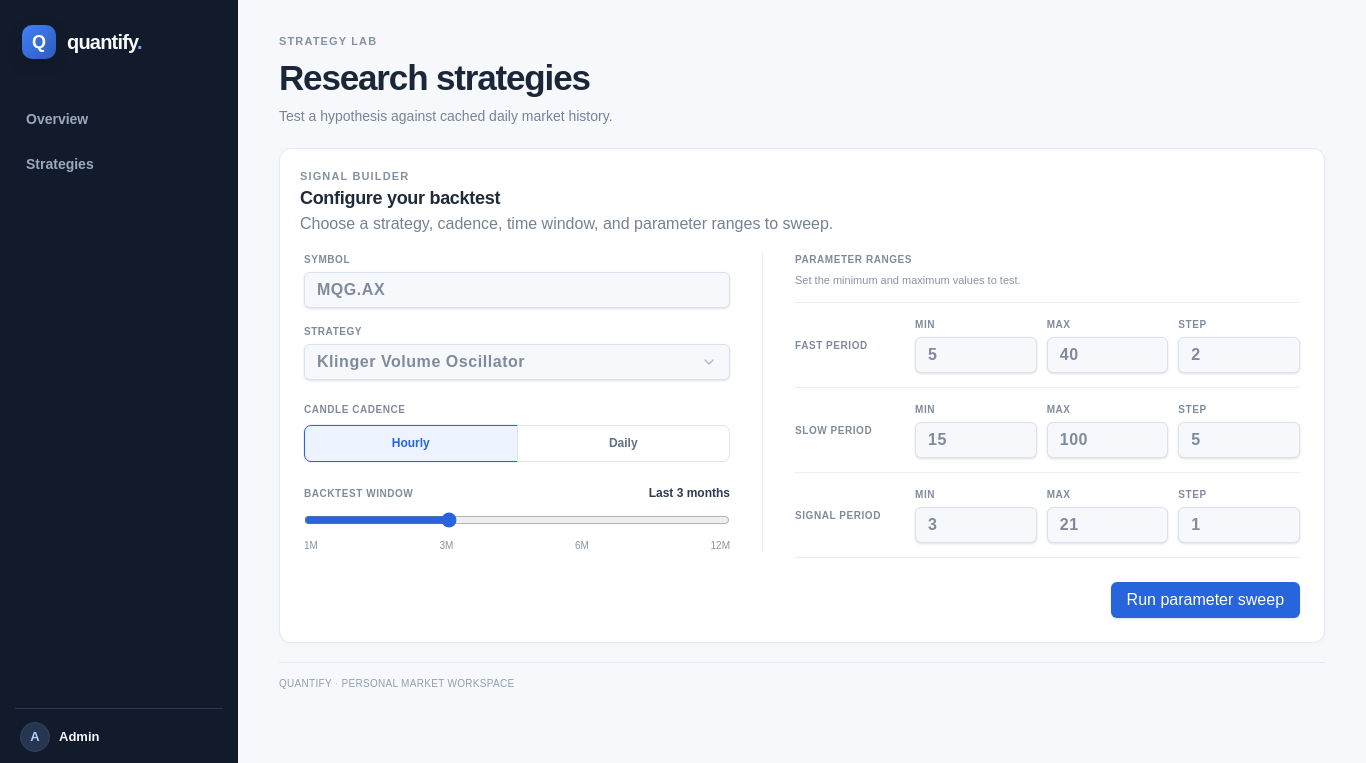
Scenario: ResearchPage › runs a selected strategy sweep and shows the results workspace
Click the button "Run parameter sweep": coordinates (1205, 600) [1111,582,1300,618]
(page scrolled)
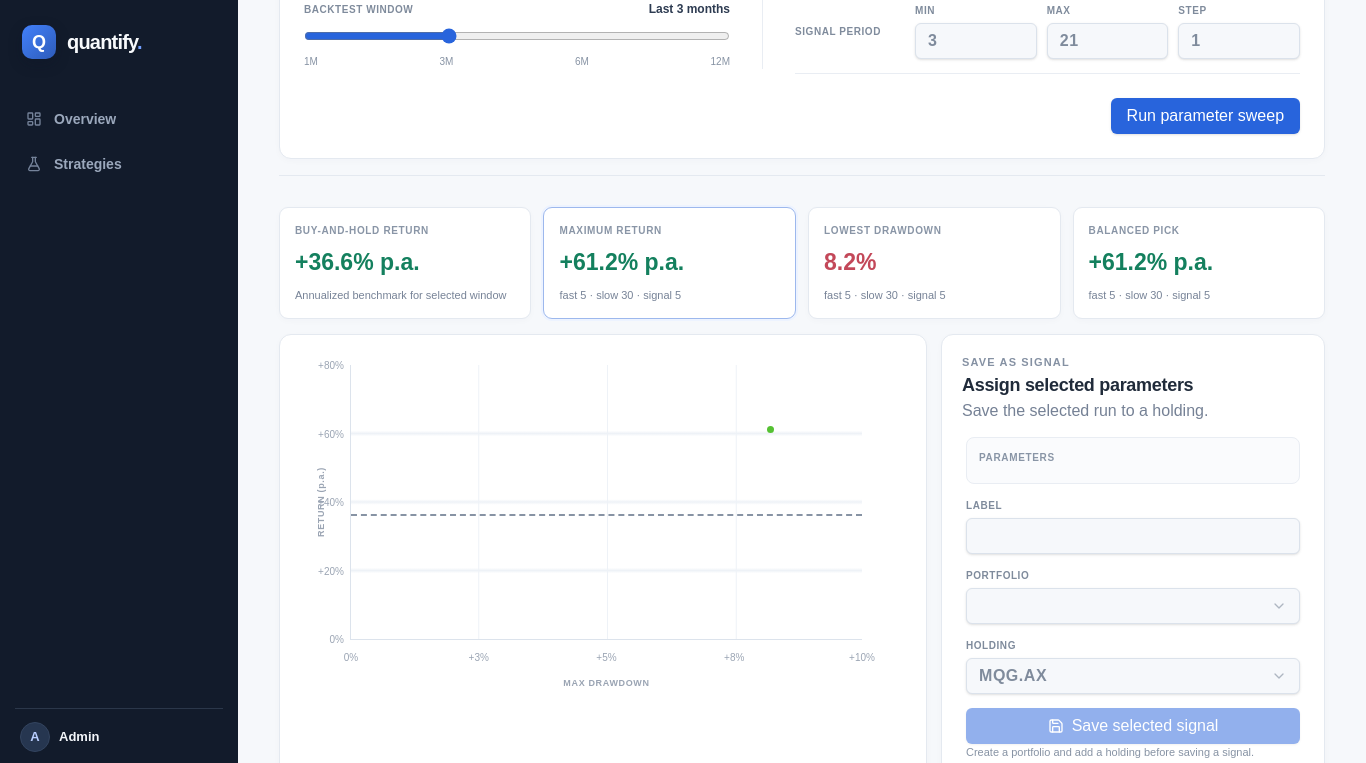
Expected: the button named "Select run 1" is shown
Expected: the text "Buy-and-hold return" is shown, [295,225,429,236]
Expected: the text "Maximum return" is shown, [560,225,662,236]
Click the button named "Select run 1": coordinates (770, 430) [766,426,774,433]
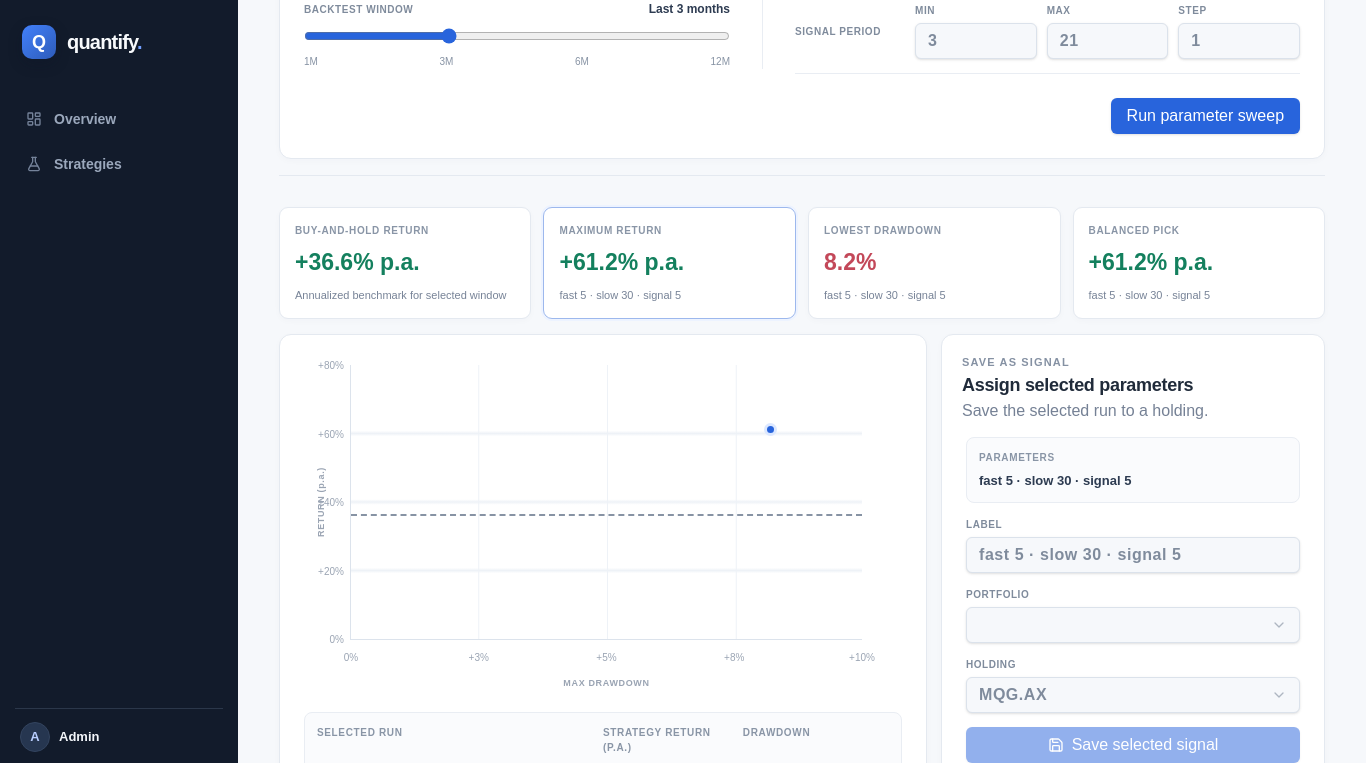
Expected: the picture named "Buy-and-hold return +36.6% p.a." is shown, [351,514,862,516]
Expected: the text "Lowest drawdown" is shown, [824,225,942,236]
Expected: the text "Strategy return (p.a.)" is shown, [603,727,711,753]
